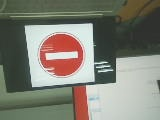stop: (36, 30, 89, 83)
